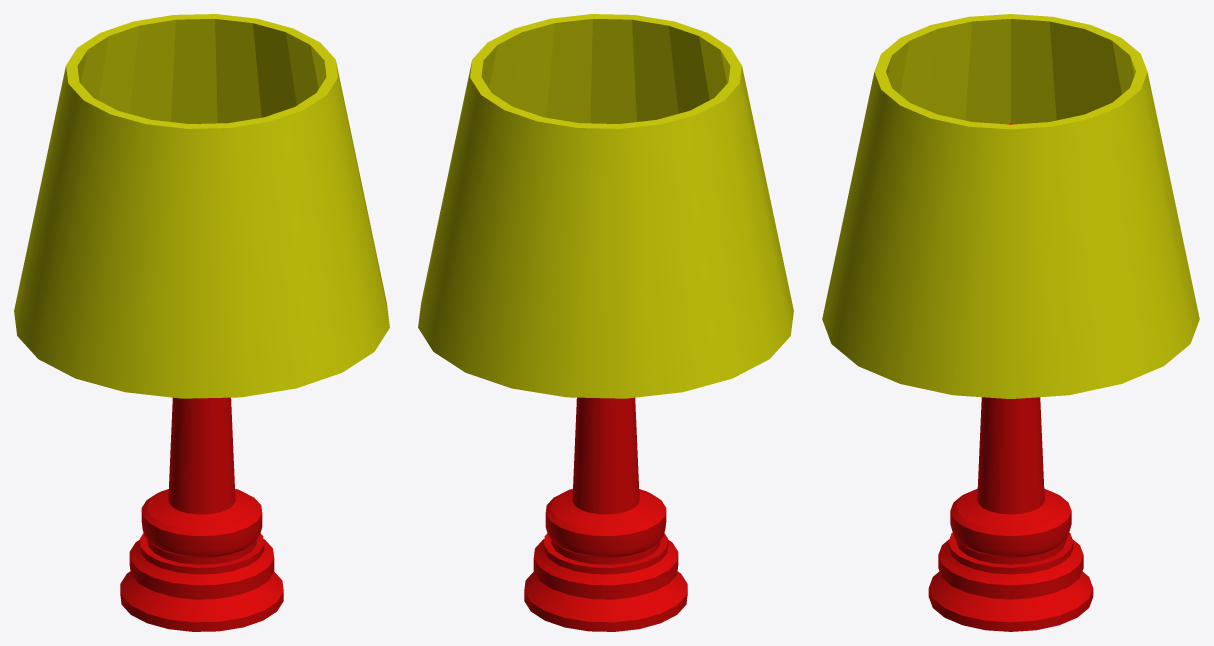
The model's file is Lamp.fbx.
3 views of the same model, side by side, from view 1: azimuth 30°, elevation 25°; view 2: azimuth 150°, elevation 25°; view 3: azimuth 270°, elevation 25° (orthographic).
Parts seen in each view (by area): view 1: Lamp; view 2: Lamp; view 3: Lamp.
Boxes of the visible parts, x1,y1,x2,y2 form: Lamp: (14, 14, 389, 631); Lamp: (418, 14, 793, 631); Lamp: (822, 14, 1199, 631).
Bounding box in the file's own units: 1.27 × 1.95 × 1.27.
